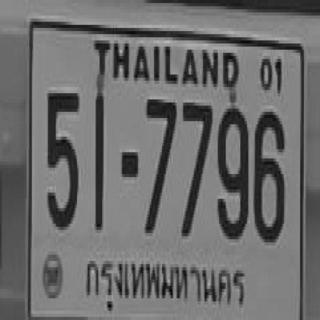N01: (94, 92, 104, 228)
N05: (46, 89, 78, 228)
N06: (253, 109, 284, 239)
N07: (180, 98, 211, 235), (145, 96, 175, 233)
N09: (217, 104, 247, 238)
P04: (81, 251, 250, 320)
